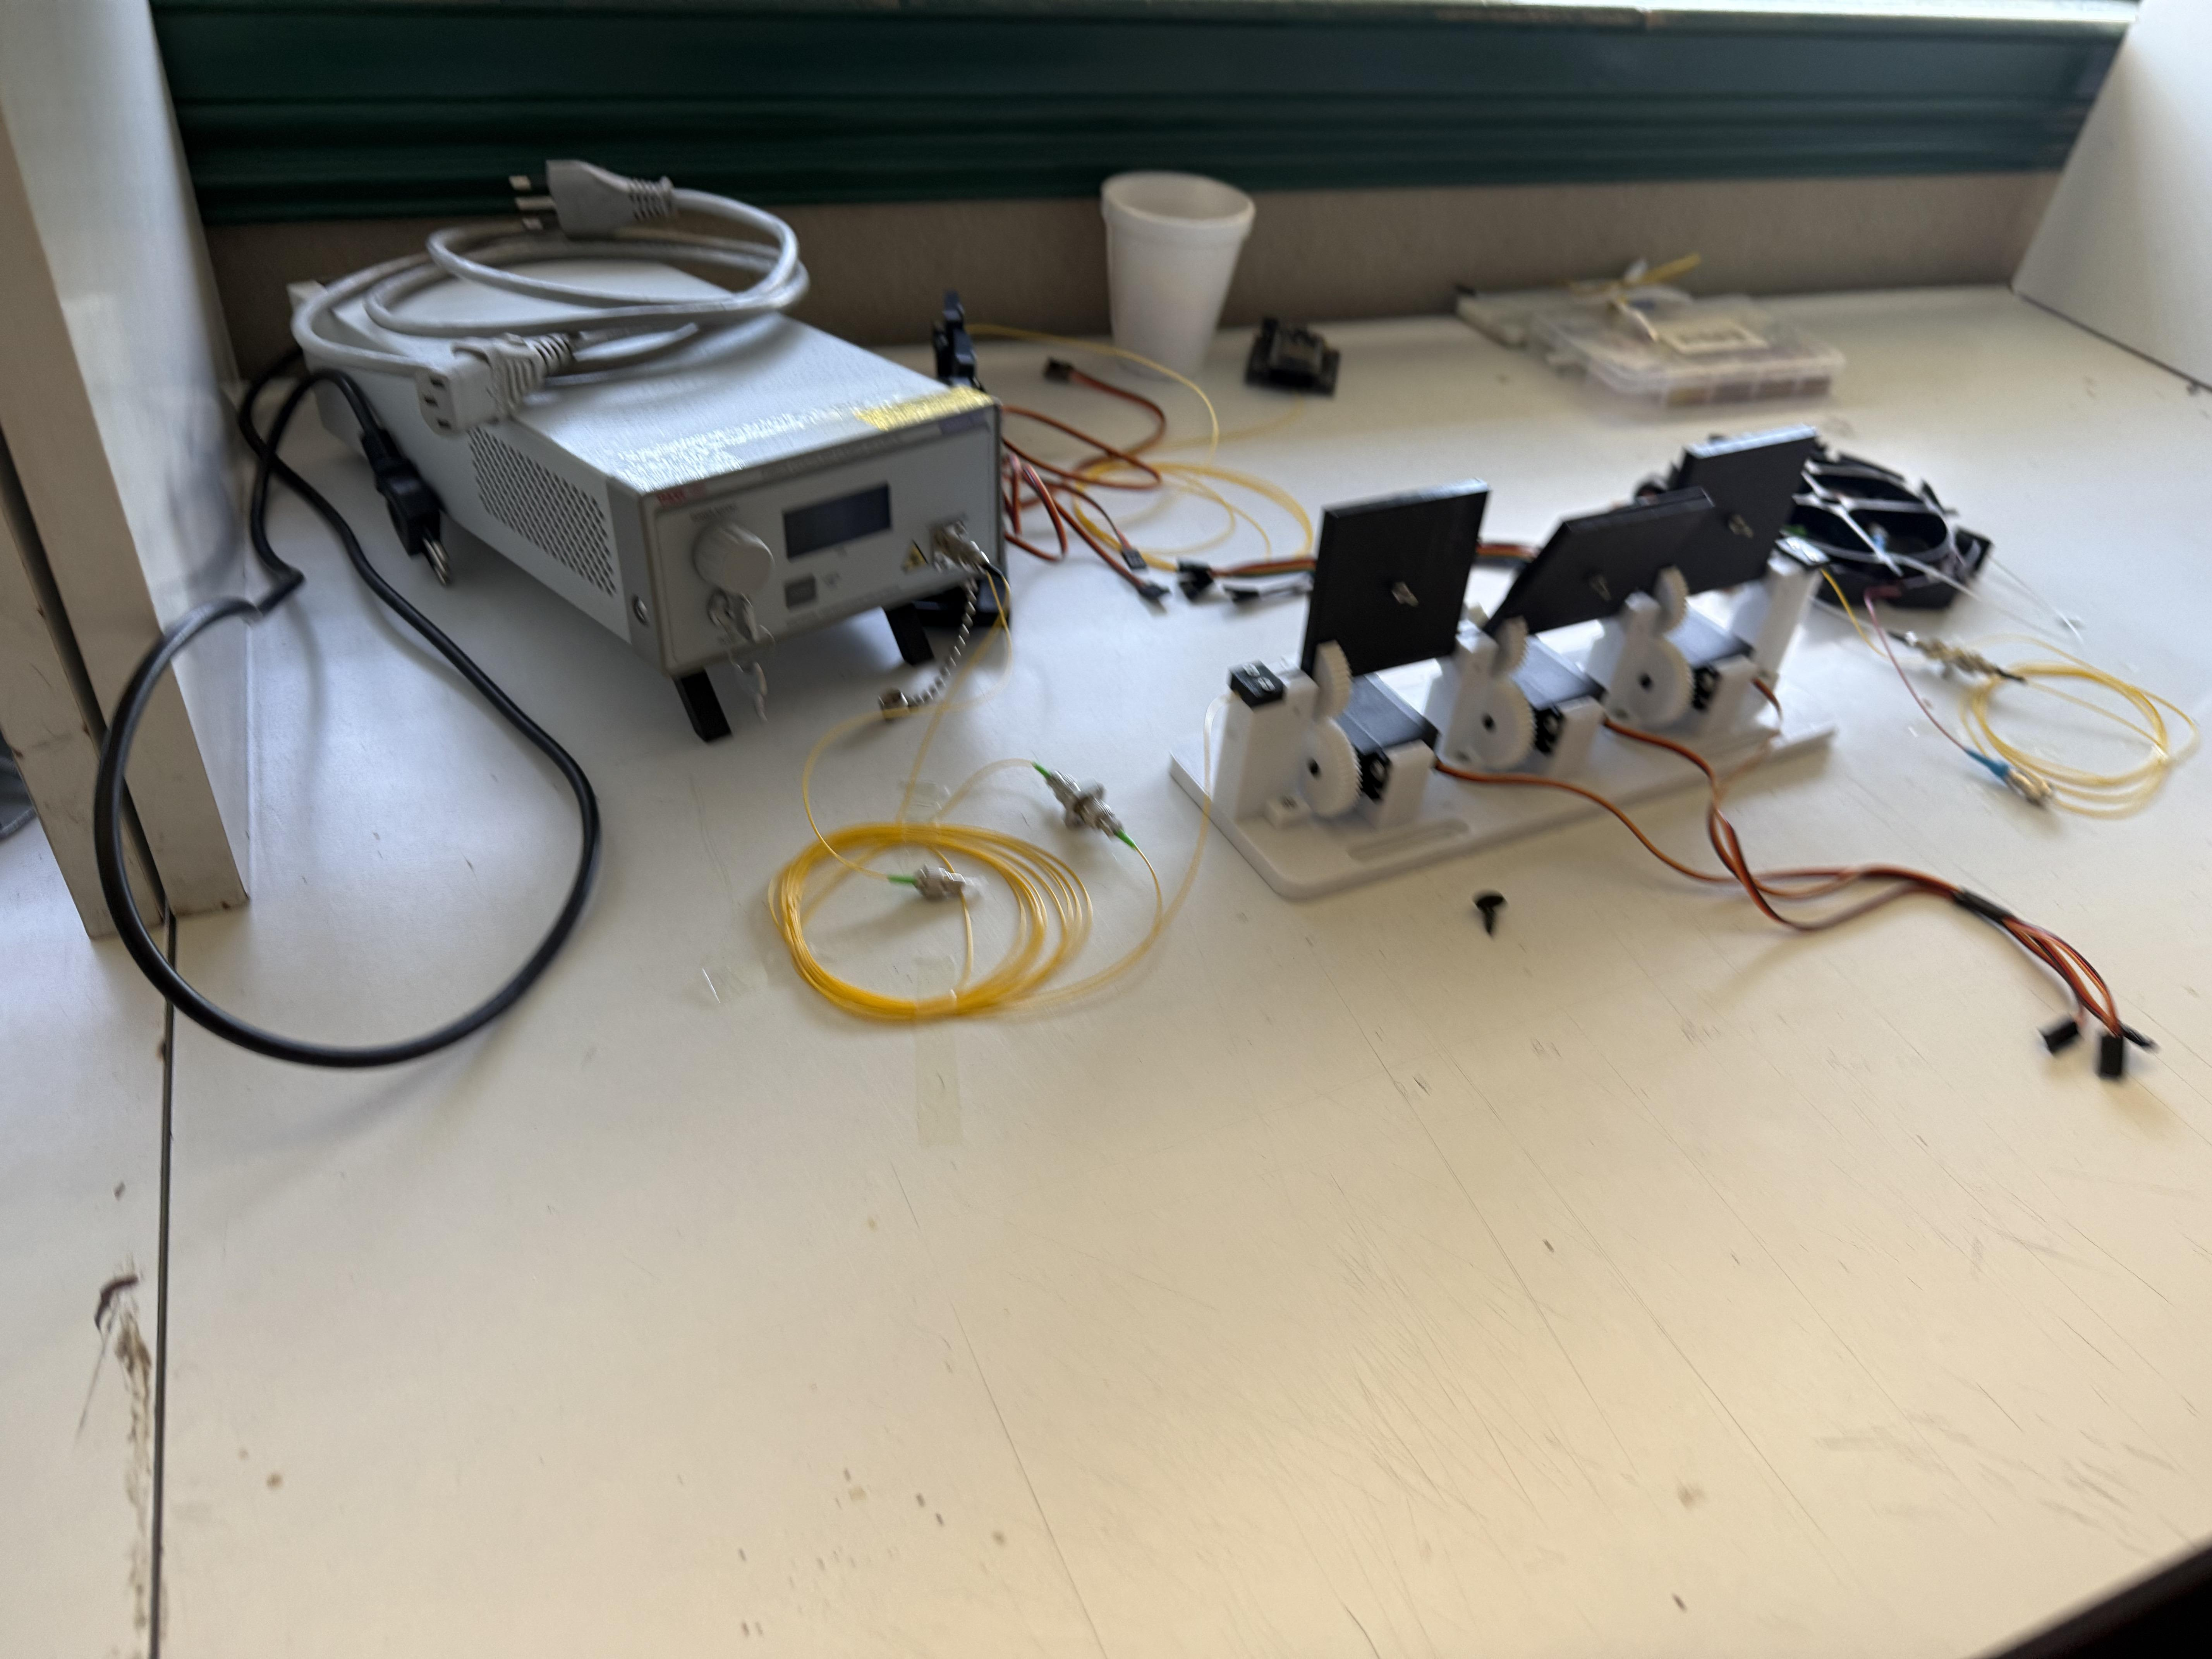fiber_cable: (724, 768, 1193, 1034)
laser: (221, 217, 1031, 778)
paddle_polarization_controller: (1207, 413, 1843, 823)
